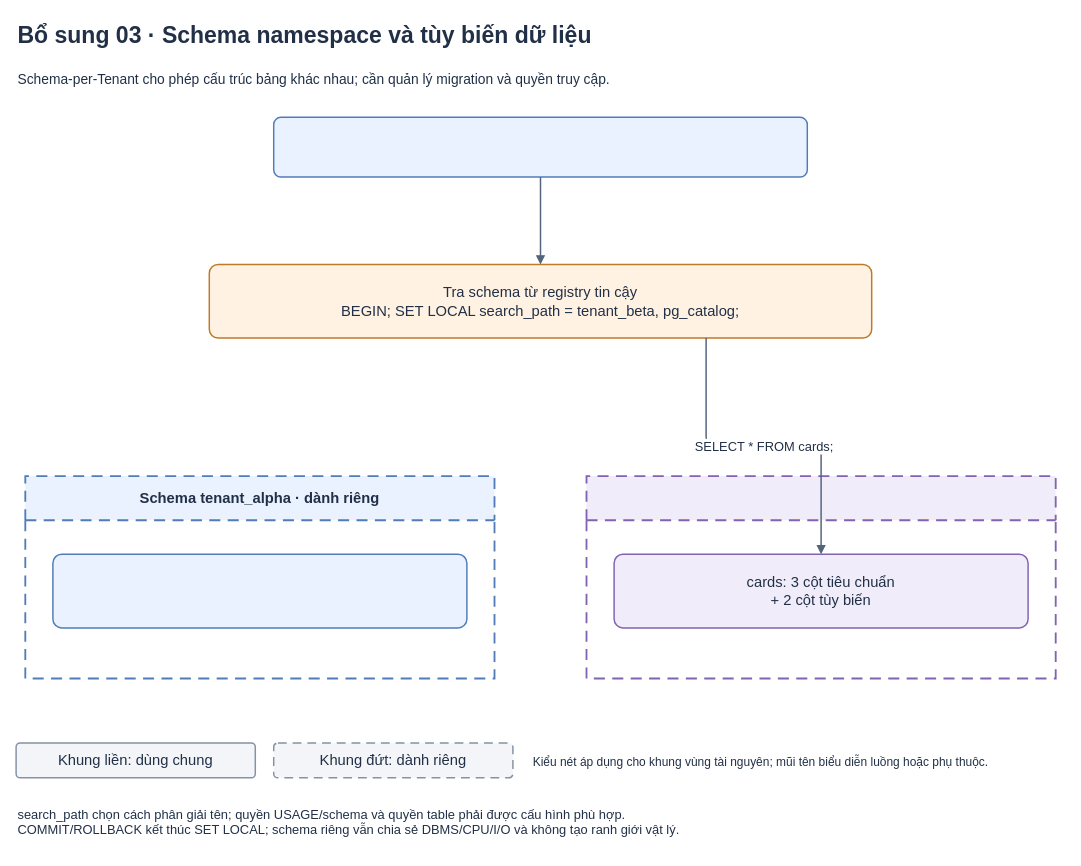
Image size: 1081x866. Some labels were removed from this diagram. The box of each missing label's shape, as (x1, y1, x2, y2) in pixels:
Backend: tenant_beta đã xác thực: (273, 116, 808, 177)
cards: 3 cột tiêu chuẩn: (52, 553, 467, 628)
Schema tenant_beta · dành riêng: (585, 475, 1056, 679)
